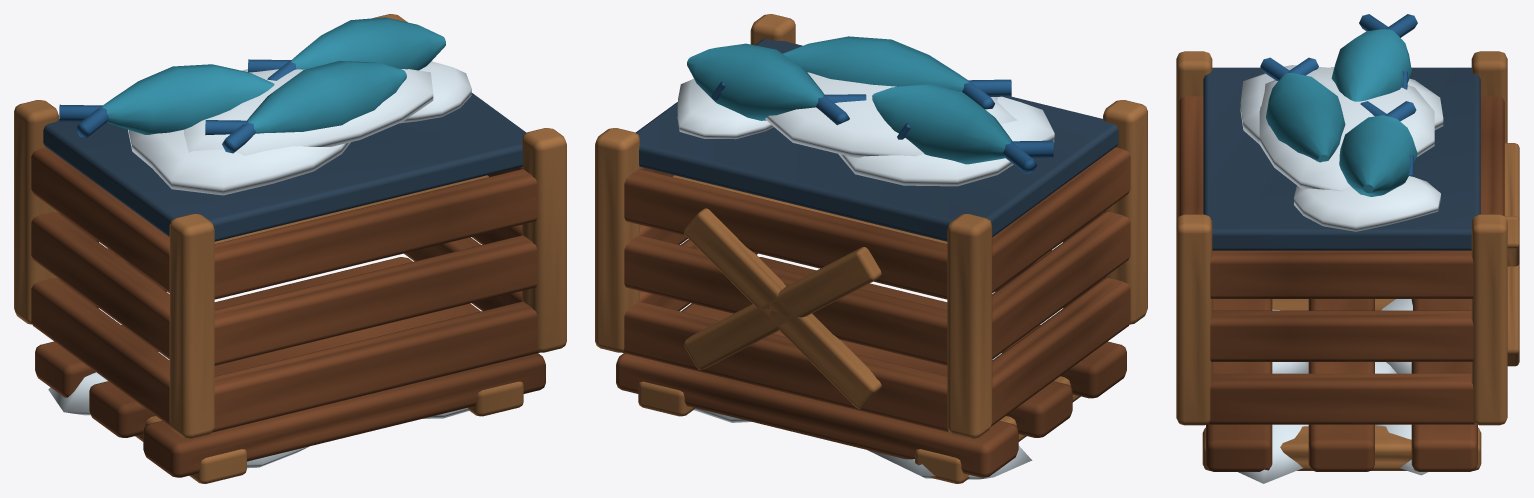
The model's file is fish_crate.glb.
3 renders of one model, left to right at view 1: azimuth 30°, elevation 25°; view 2: azimuth 150°, elevation 25°; view 3: azimuth 270°, elevation 25°, orthographic. The views are drawn at different scales.
Parts seen in each view (by area): view 1: fish_crate; view 2: fish_crate; view 3: fish_crate.
Boxes of the visible parts, x1,y1,x2,y2 form: fish_crate: (14, 14, 566, 483); fish_crate: (595, 14, 1147, 483); fish_crate: (1176, 14, 1519, 483).
Bounding box in the file's own units: 1.44 × 1.2 × 1.14.
